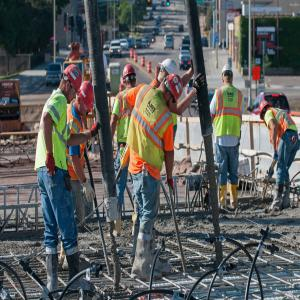red: (61, 65, 83, 103), (162, 75, 185, 107), (77, 81, 96, 117), (123, 65, 138, 87), (260, 101, 272, 121)
white: (159, 59, 179, 81), (223, 64, 234, 84)
